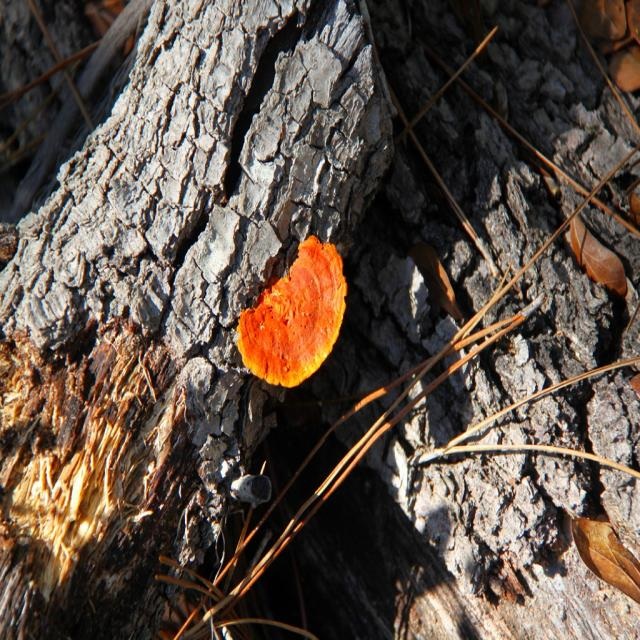Mushroom: (236, 234, 348, 390)
